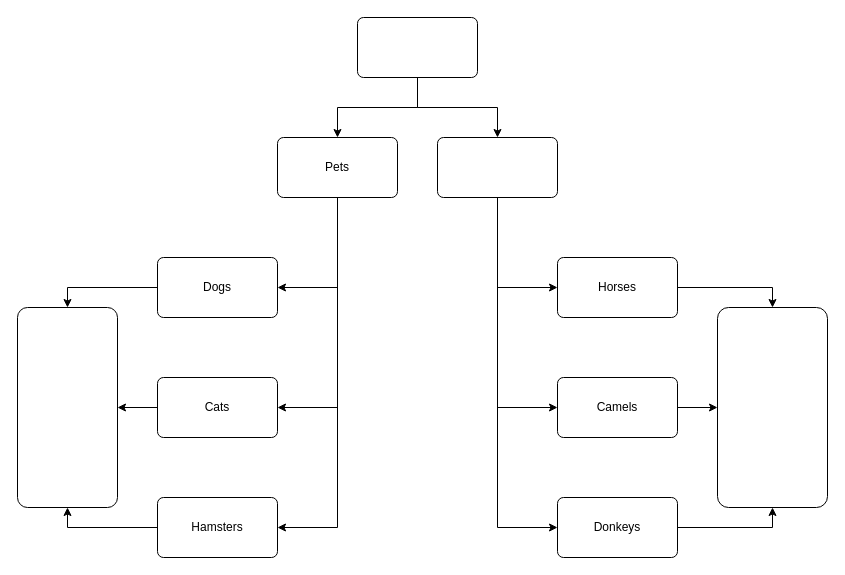
Some shapes in this 845 by 575 pixel diagram are drawn without their labels. Each missing label, with the centre of its shape:
Animals: (417,47)
id Name BrithDate Commands PackAnimals TypeID: (772,407)
id Name BrithDate Commands PetsTypeID: (67,407)
PackAnimals: (497,167)
